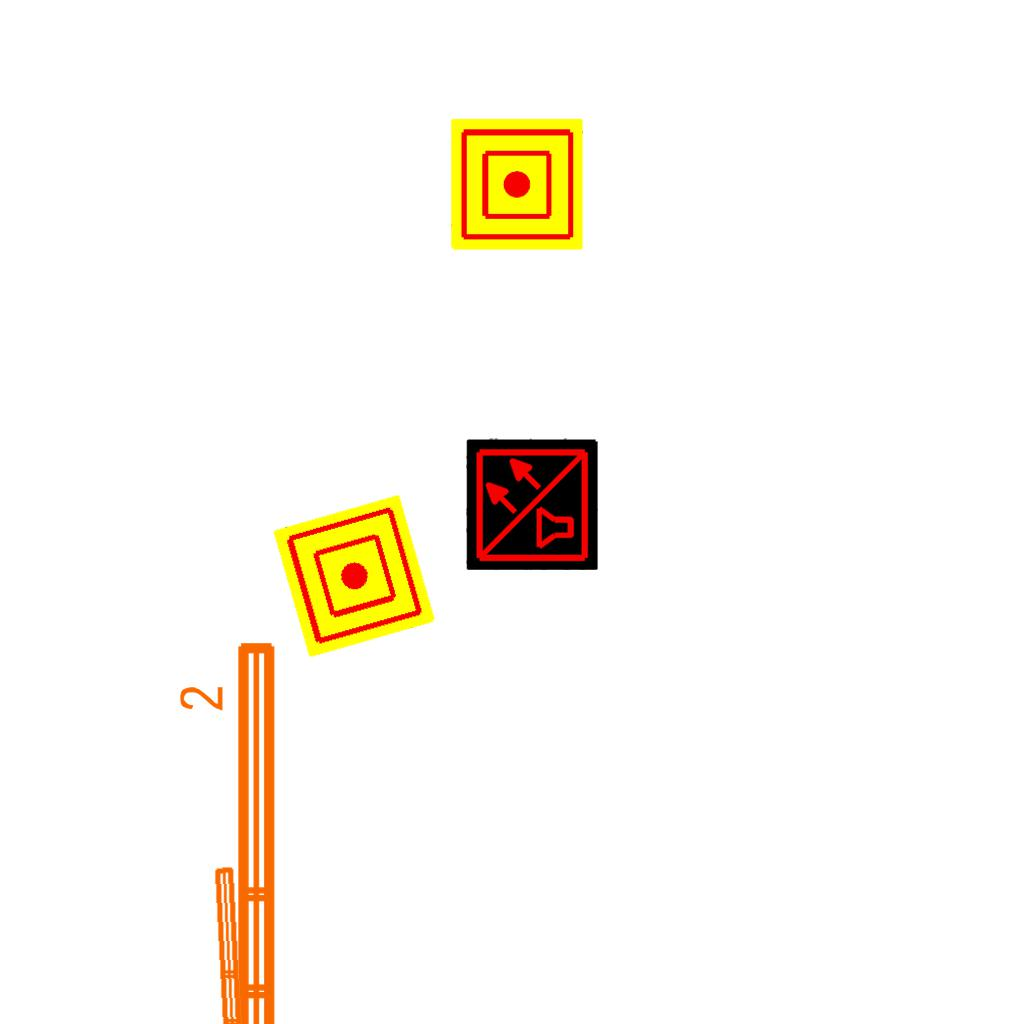Ambulanz_Pendelleuchte_LED: (175, 634, 287, 1024), (208, 860, 285, 1024)
NAM-Nichtautomatischer_Melder: (272, 494, 436, 658), (451, 118, 583, 250)
OKW_Multisensormelder_(Kombination_optischer_Rauch-Kahlenmonoxid_Waerme-Melder): (466, 438, 598, 570)
